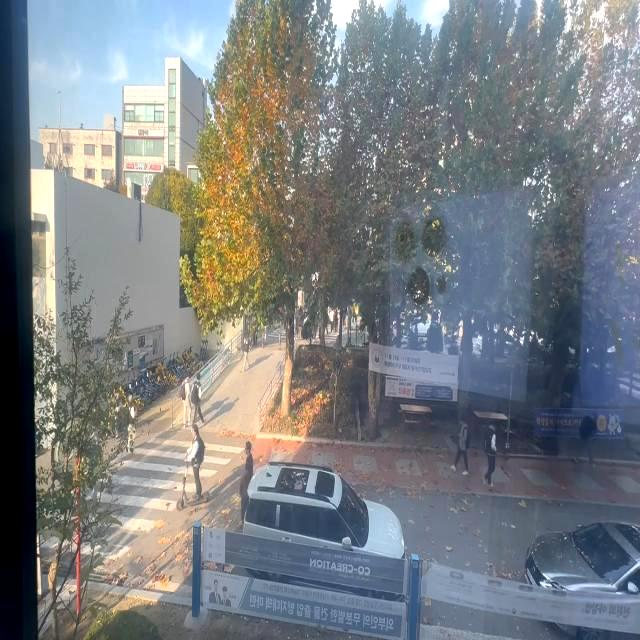bare_head: (187, 420, 206, 445)
human: (184, 418, 208, 497)
kickboard: (169, 486, 223, 516)
